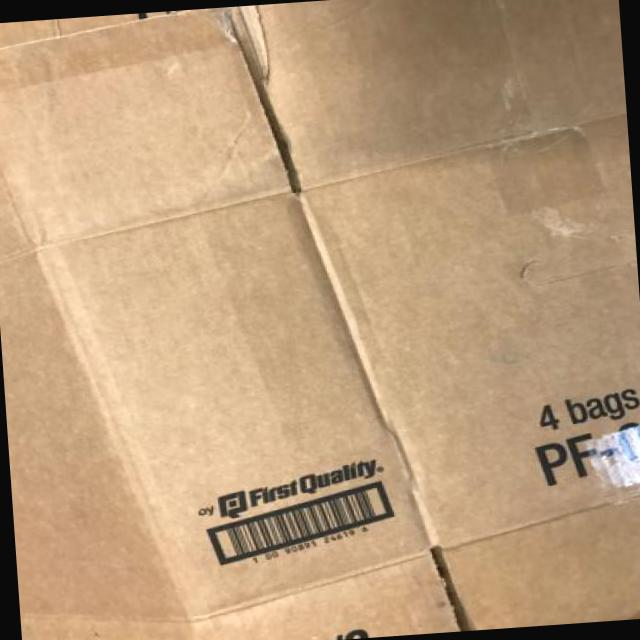cardboard: (0, 0, 639, 639), (0, 11, 446, 639), (244, 0, 639, 563), (304, 117, 639, 544), (249, 0, 625, 186), (0, 12, 289, 245), (22, 555, 458, 639), (446, 498, 639, 629), (0, 19, 58, 45)
